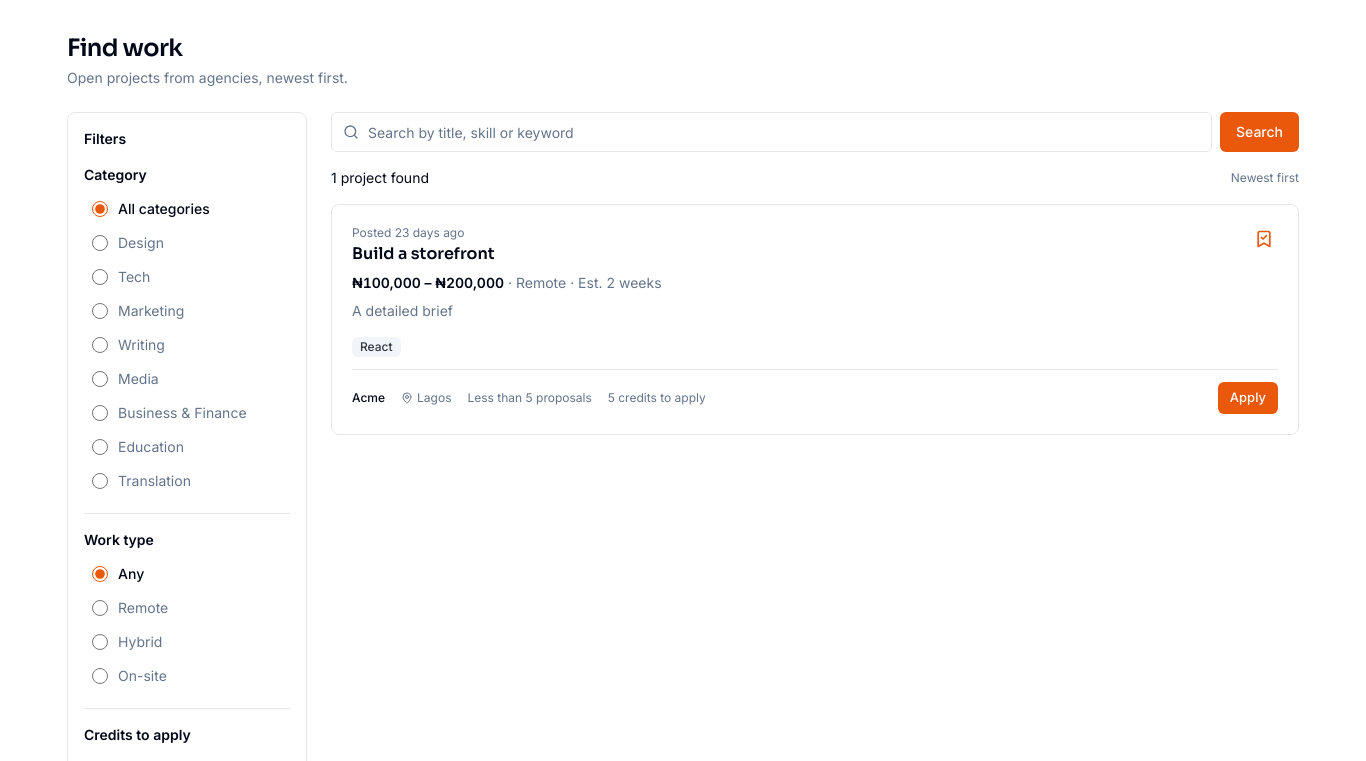
Test: Marketplace › shows Applied immediately after successful submission
Click the button "Apply" at (1248, 398), box [1218,382,1278,414]
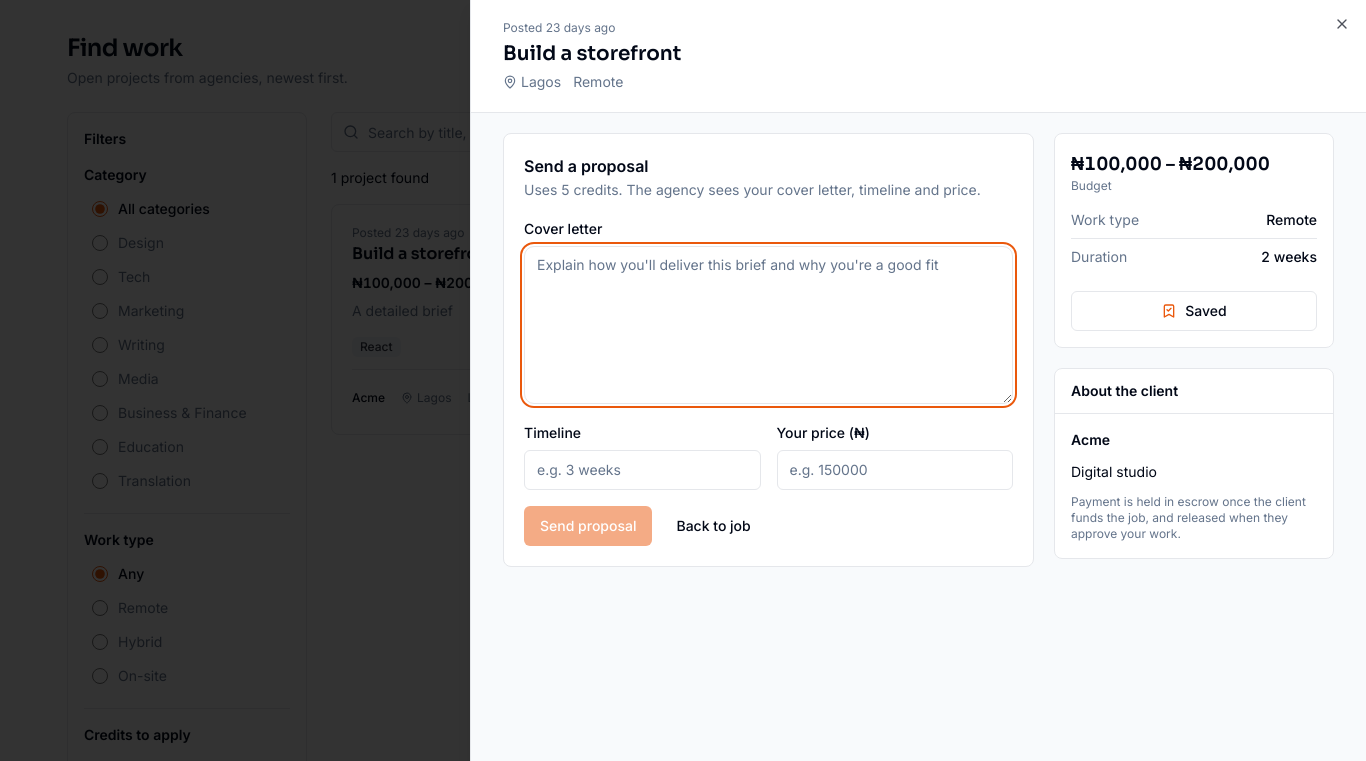
Replace the text in the text box named "Your proposal" with "My proposal" at (768, 324), box [524,246,1013,404]
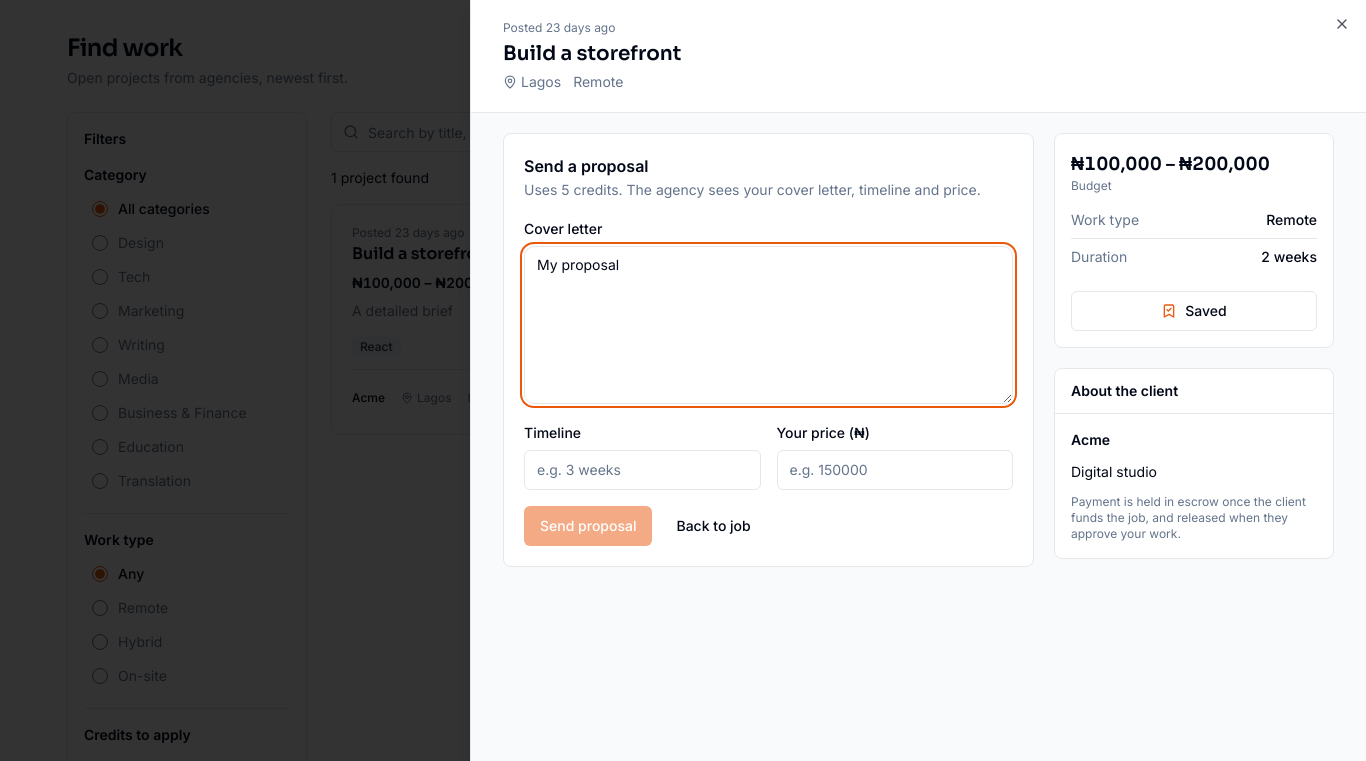
Type "1 week" into the field labelled "Timeline" at (642, 470), box [524,450,760,490]
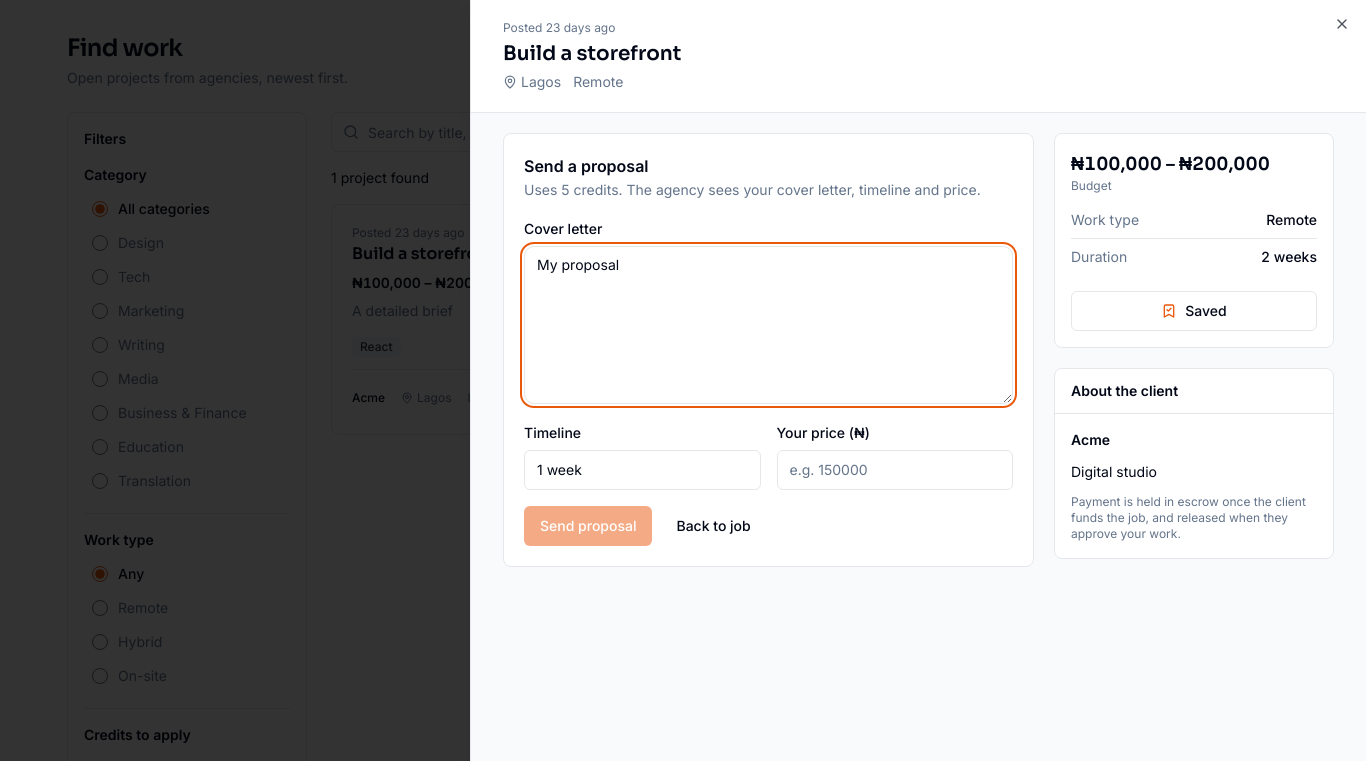
Type "100000" into the field named "Your budget (₦)" at (895, 470), box [776,450,1013,490]
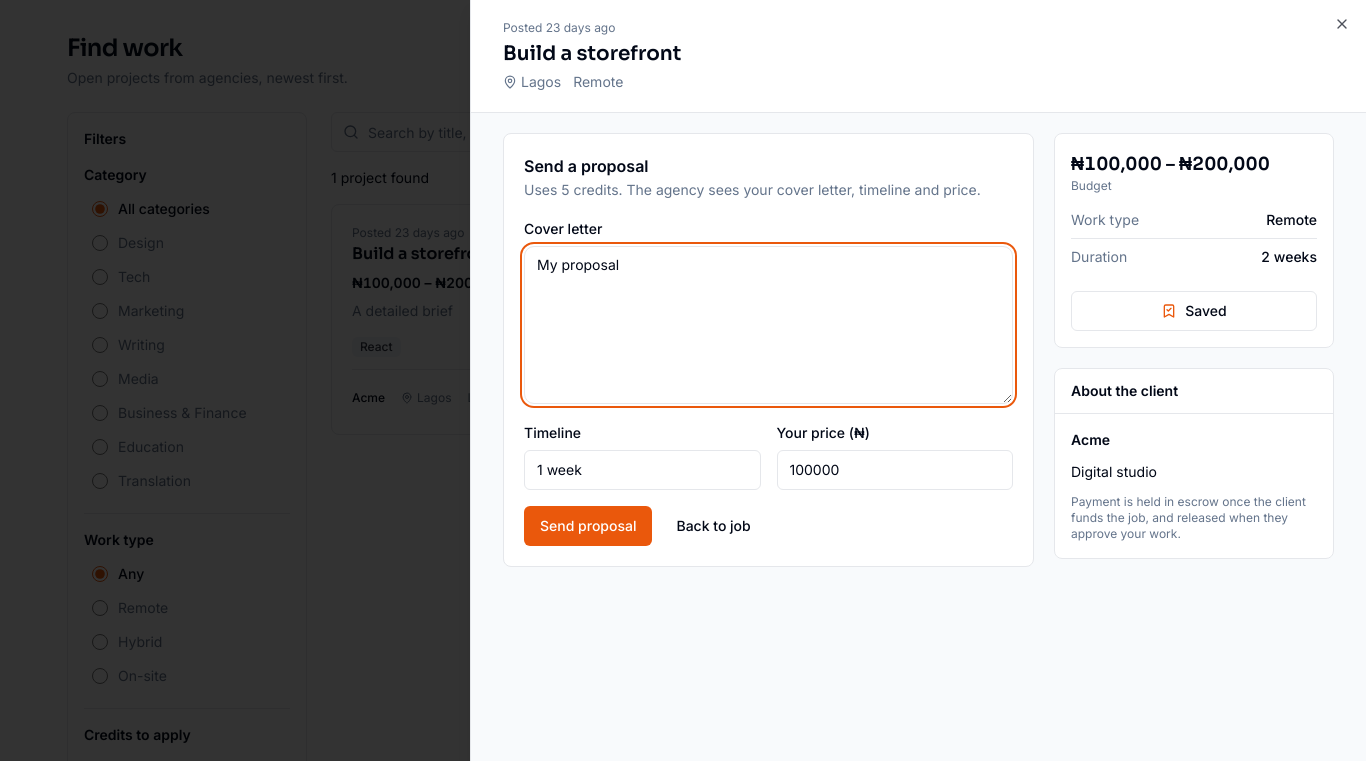
Submit the form named "Your proposal", box [503,132,1034,566]
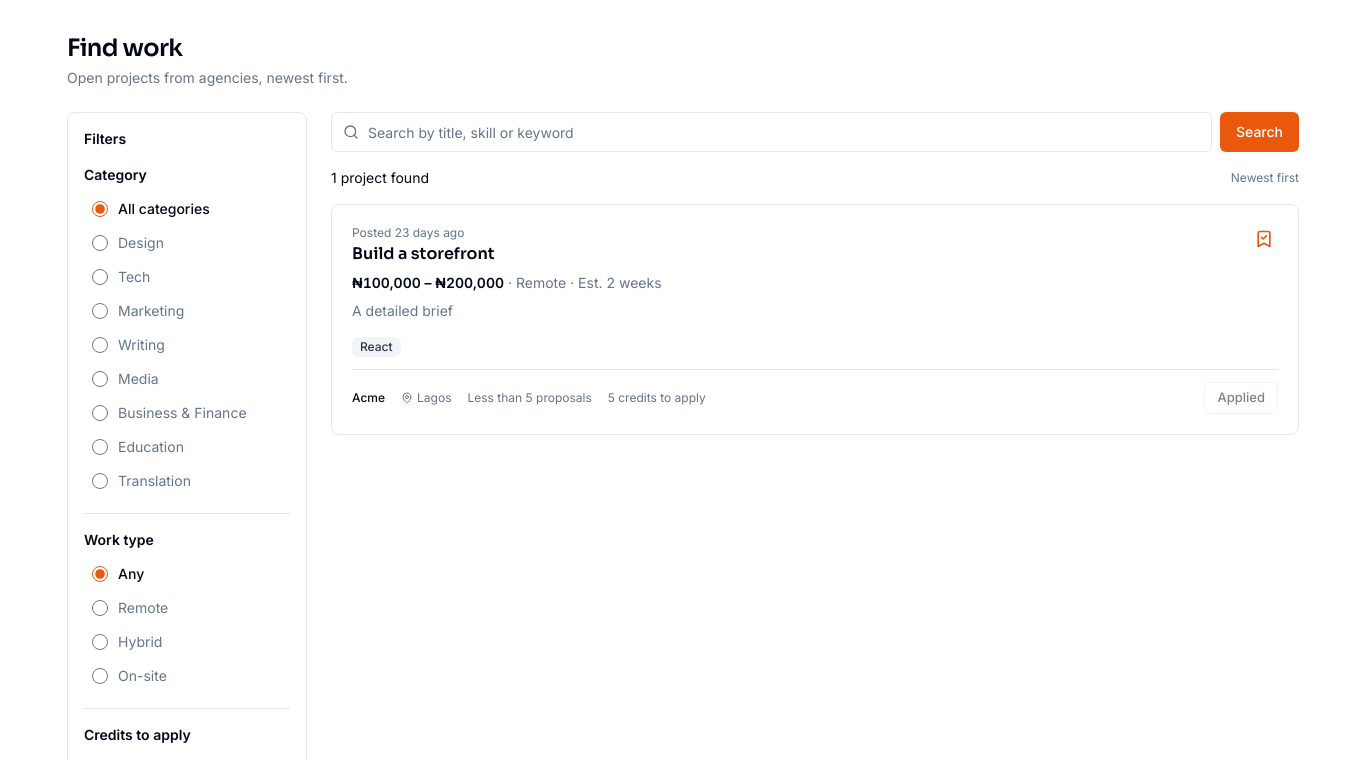
Expected: the button "Applied" is disabled, [1204,382,1278,414]
